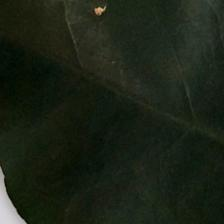healthy: (7, 9, 224, 224)
